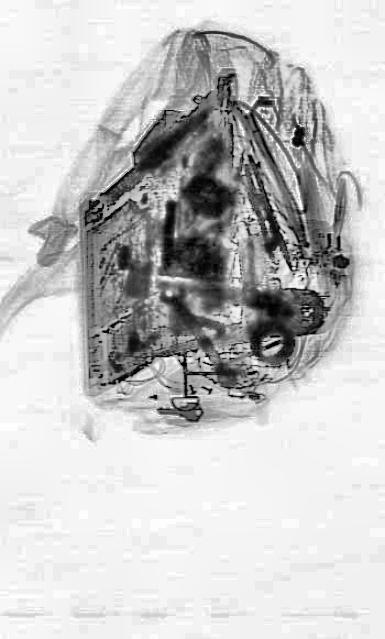Pliers: (148, 271, 324, 357)
Wrench: (157, 270, 241, 398)
